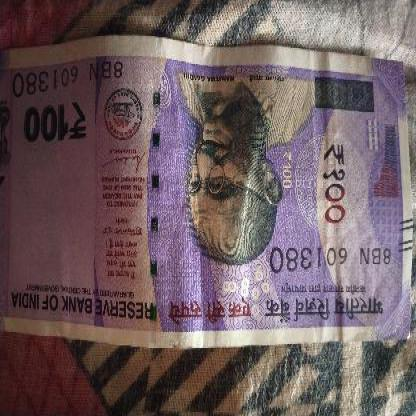New100Front: (0, 44, 413, 340)
